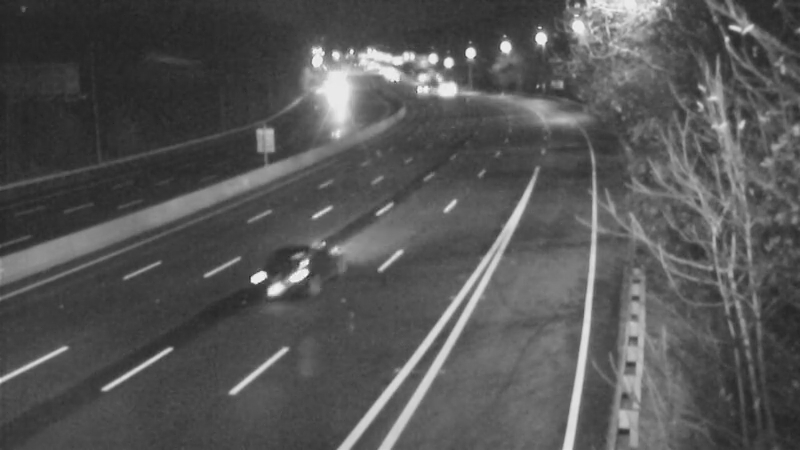vehicle: (242, 238, 322, 318), (395, 63, 445, 113), (417, 69, 467, 119), (315, 65, 365, 115)
